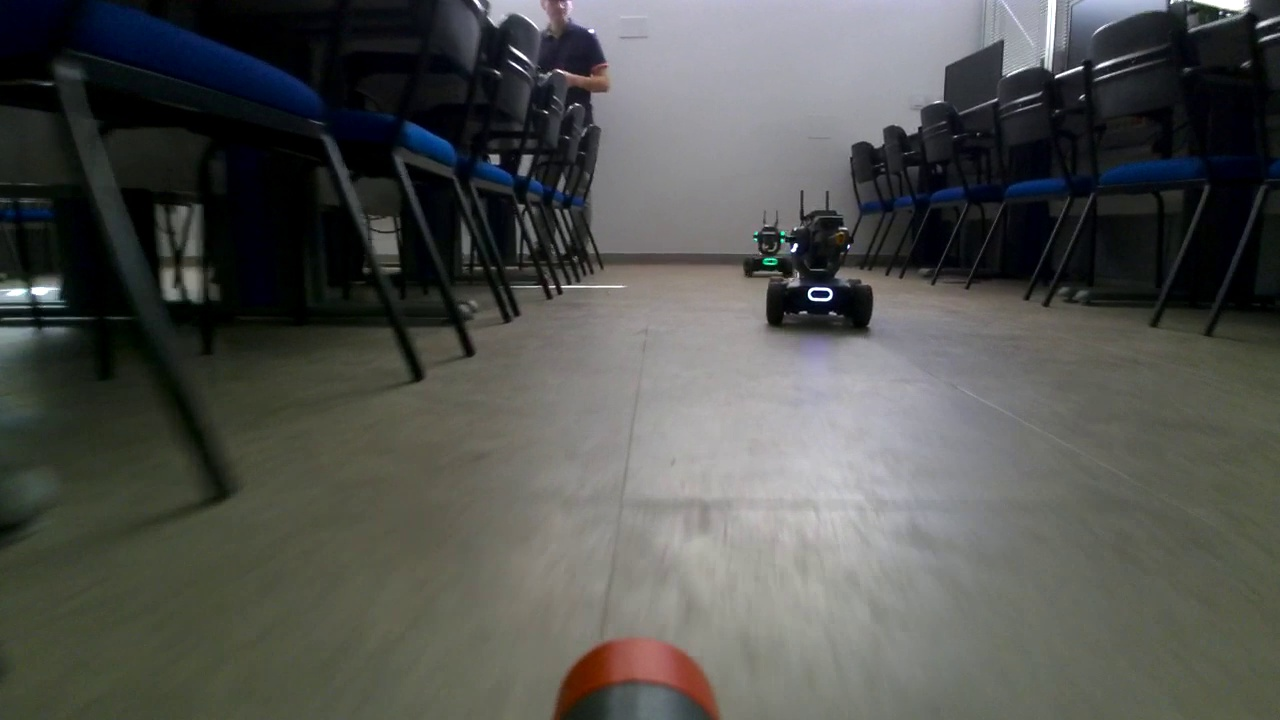robot: (767, 186, 872, 330), (742, 211, 790, 279)
